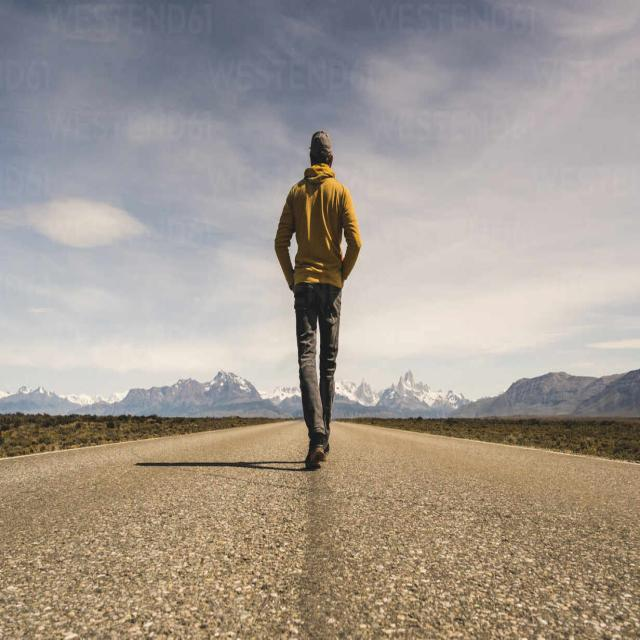Person: (275, 132, 361, 468)
